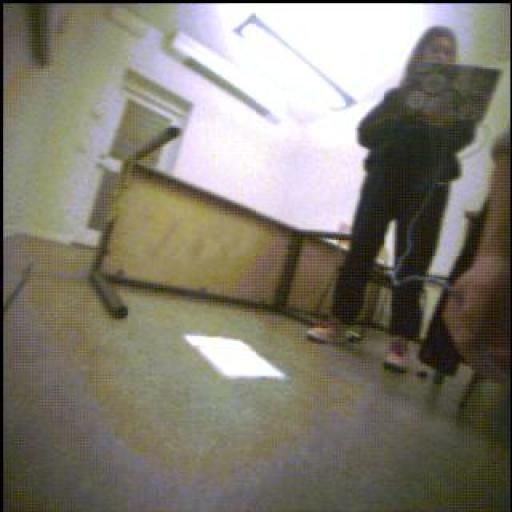Pad: (190, 332, 278, 386)
